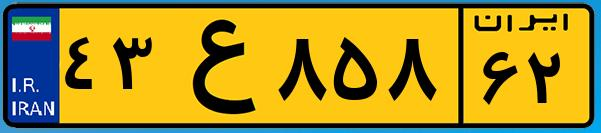2: (525, 38, 570, 115)
3: (110, 28, 158, 98)
4: (57, 26, 110, 100)
5: (330, 28, 385, 110)
6: (475, 38, 525, 113)
8: (270, 28, 330, 110), (385, 28, 445, 110)
ع: (158, 12, 270, 120)
